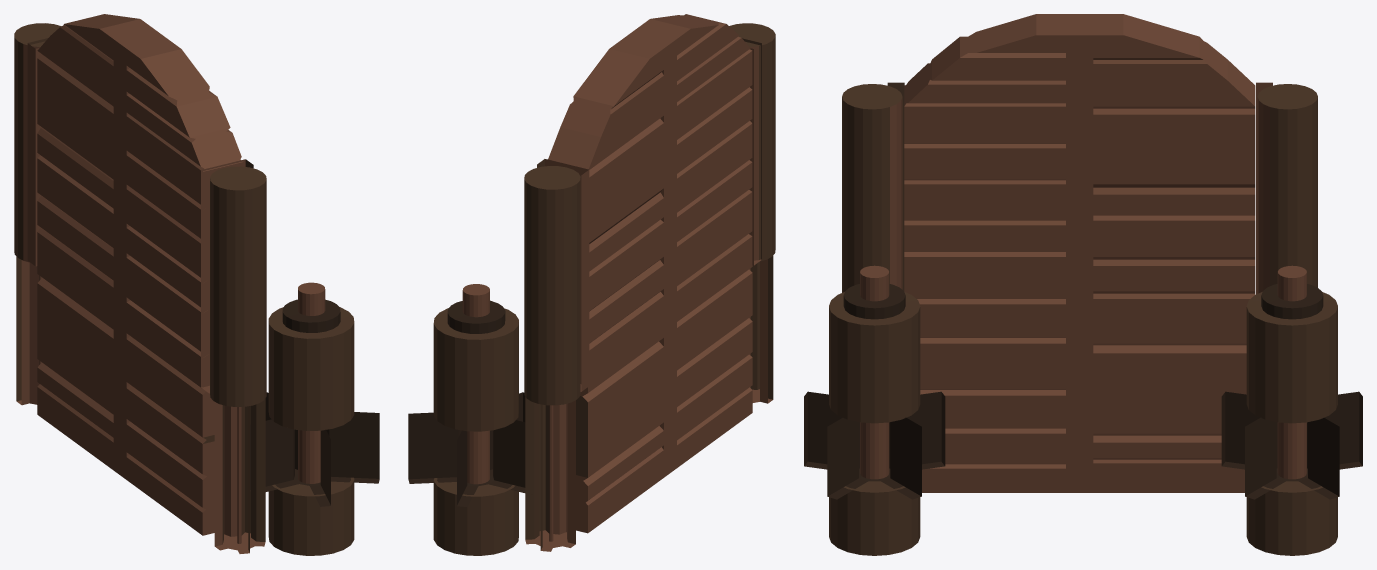
Rendered from porte et rouage sortie usine (1).fbx.
3 views of the same model, side by side, from view 1: azimuth 30°, elevation 25°; view 2: azimuth 150°, elevation 25°; view 3: azimuth 270°, elevation 25° (orthographic). The views are drawn at different scales.
Visible parts, largest first — view 1: porte gauche, porte droite, cylindre haut 2 rouage.001, bois rouage 2, cylindre bas 2 rouage, tube 2, cylindre haut 4 rouage; view 2: porte droite, porte gauche, cylindre haut 2 rouage.002, bois rouage 2.001, cylindre bas 2 rouage.001, tube 2.001, cylindre haut 4 rouage.001; view 3: porte droite, porte gauche, cylindre haut 2 rouage.001, cylindre haut 2 rouage.002, bois rouage 2, bois rouage 2.001, cylindre bas 2 rouage, cylindre bas 2 rouage.001, tube 2, tube 2.001, cylindre haut 4 rouage, cylindre haut 4 rouage.001.
Part boxes in pixels (left/top/right/bottom): porte gauche: left=113, top=39, right=266, bottom=553; porte droite: left=14, top=14, right=167, bottom=479; cylindre haut 2 rouage.001: left=268, top=307, right=354, bottom=430; bois rouage 2: left=250, top=392, right=379, bottom=506; cylindre bas 2 rouage: left=268, top=477, right=354, bottom=555; tube 2: left=298, top=282, right=325, bottom=483; cylindre haut 4 rouage: left=282, top=299, right=340, bottom=332; porte droite: left=524, top=29, right=676, bottom=551; porte gauche: left=636, top=14, right=775, bottom=467; cylindre haut 2 rouage.002: left=433, top=308, right=518, bottom=431; bois rouage 2.001: left=408, top=392, right=532, bottom=506; cylindre bas 2 rouage.001: left=433, top=478, right=518, bottom=555; tube 2.001: left=462, top=284, right=489, bottom=484; cylindre haut 4 rouage.001: left=447, top=300, right=505, bottom=333; porte droite: left=1066, top=14, right=1317, bottom=492; porte gauche: left=842, top=14, right=1093, bottom=492; cylindre haut 2 rouage.001: left=829, top=292, right=920, bottom=423; cylindre haut 2 rouage.002: left=1246, top=292, right=1337, bottom=423; bois rouage 2: left=804, top=391, right=945, bottom=499; bois rouage 2.001: left=1221, top=391, right=1362, bottom=499; cylindre bas 2 rouage: left=829, top=481, right=920, bottom=555; cylindre bas 2 rouage.001: left=1246, top=481, right=1337, bottom=555; tube 2: left=860, top=265, right=889, bottom=479; tube 2.001: left=1277, top=265, right=1306, bottom=479; cylindre haut 4 rouage: left=843, top=284, right=905, bottom=319; cylindre haut 4 rouage.001: left=1261, top=284, right=1323, bottom=319.
Bounding box in the file's own units: 141 × 409 × 431.
